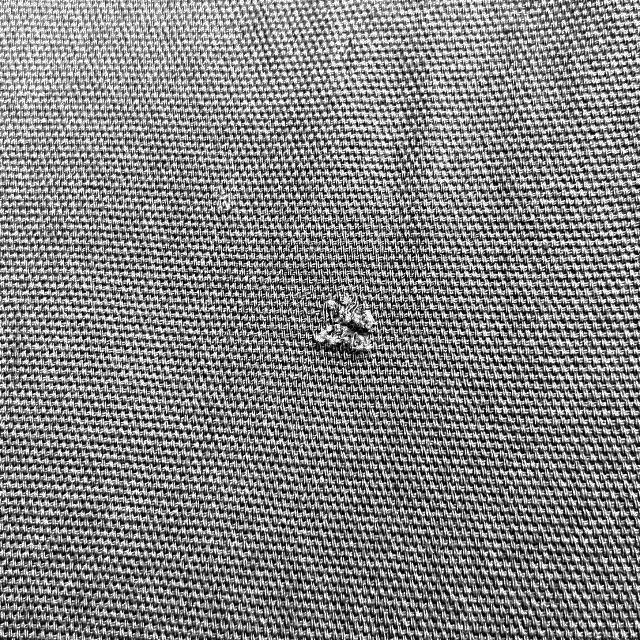Hole: (310, 288, 380, 366)
